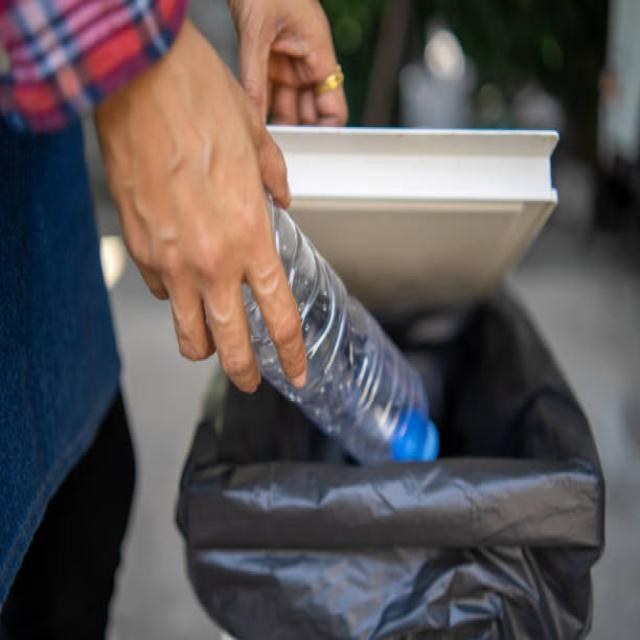plastic: (316, 303, 420, 455)
